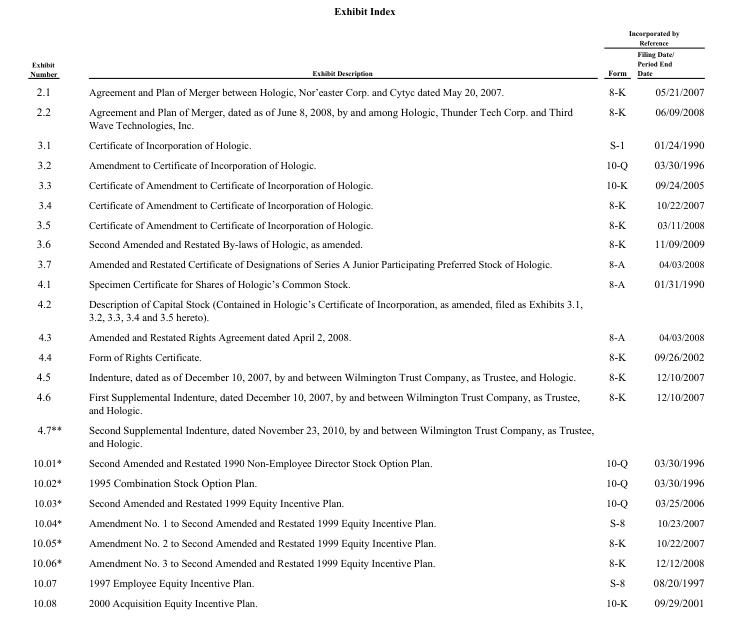table: (29, 28, 703, 607)
table column: (74, 28, 599, 607), (631, 28, 703, 607), (29, 28, 74, 607), (599, 28, 631, 607)
table column header: (29, 28, 703, 81)
table row: (29, 47, 703, 81), (29, 101, 703, 134), (29, 293, 703, 326), (29, 386, 703, 419), (29, 419, 703, 452), (29, 81, 703, 101), (29, 134, 703, 154), (29, 154, 703, 174), (29, 174, 703, 194), (29, 213, 703, 233), (29, 233, 703, 253), (29, 253, 703, 273), (29, 273, 703, 293), (29, 326, 703, 346), (29, 346, 703, 366), (29, 366, 703, 386), (29, 452, 703, 472), (29, 472, 703, 492), (29, 492, 703, 512), (29, 512, 703, 532), (29, 532, 703, 552), (29, 571, 703, 591), (29, 28, 703, 47), (29, 194, 703, 213), (29, 552, 703, 571), (29, 591, 703, 607)
table spanning cell: (74, 28, 599, 81), (29, 28, 74, 81), (599, 28, 703, 47)
